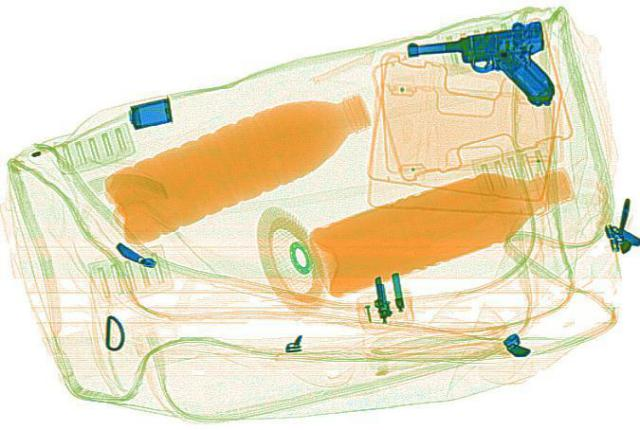Gun: (396, 14, 578, 123)
